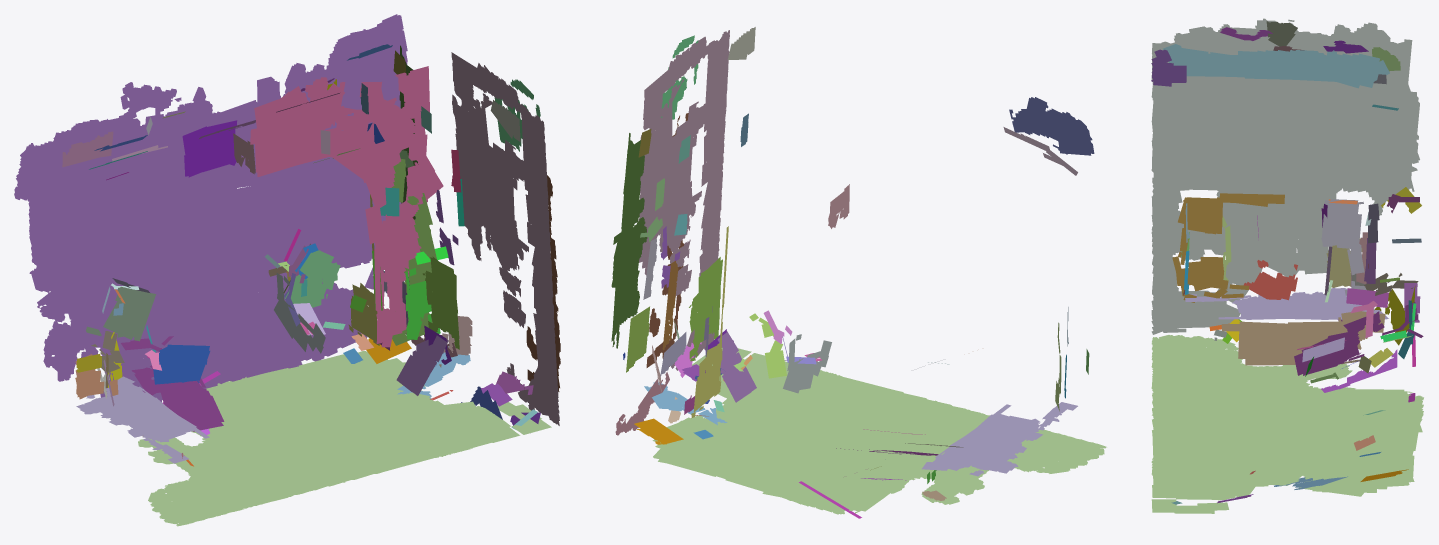
Rendered from 3f15a9266d_simple.glb.
3 views of the same model, side by side, from view 1: azimuth 30°, elevation 25°; view 2: azimuth 150°, elevation 25°; view 3: azimuth 270°, elevation 25° (orthographic). The views are drawn at different scales.
Bounding box in the file's own units: 4.31 × 3.13 × 2.23.
